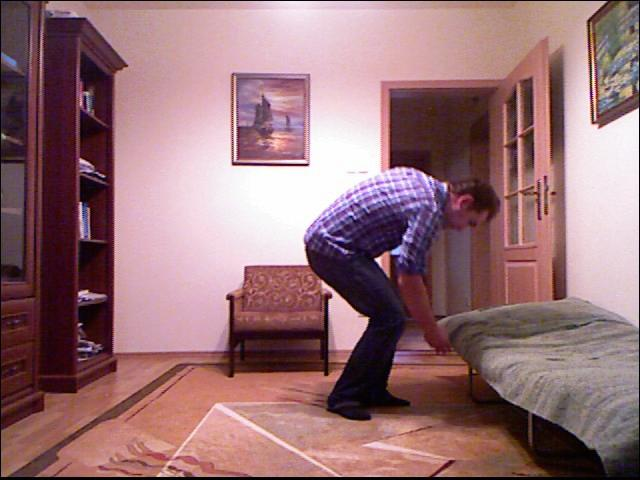bending: (298, 137, 510, 424)
